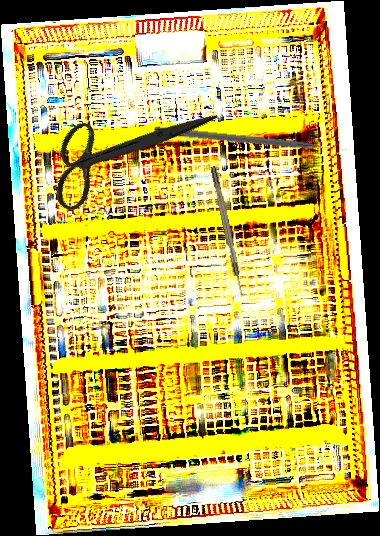Hook Surgical: (210, 165, 245, 298)
Iris Scissors: (30, 50, 219, 251)
Pusher: (153, 125, 348, 157)
